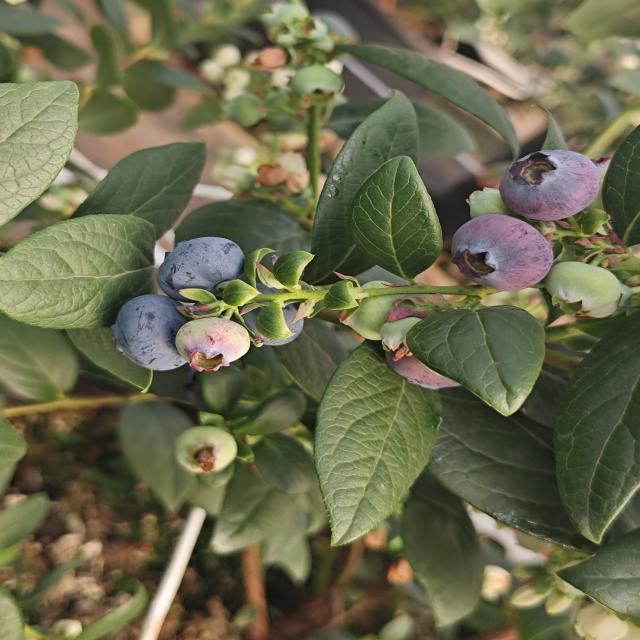ripe: (440, 211, 560, 290), (102, 285, 203, 375), (499, 144, 604, 220), (151, 233, 253, 303), (233, 278, 310, 358)
